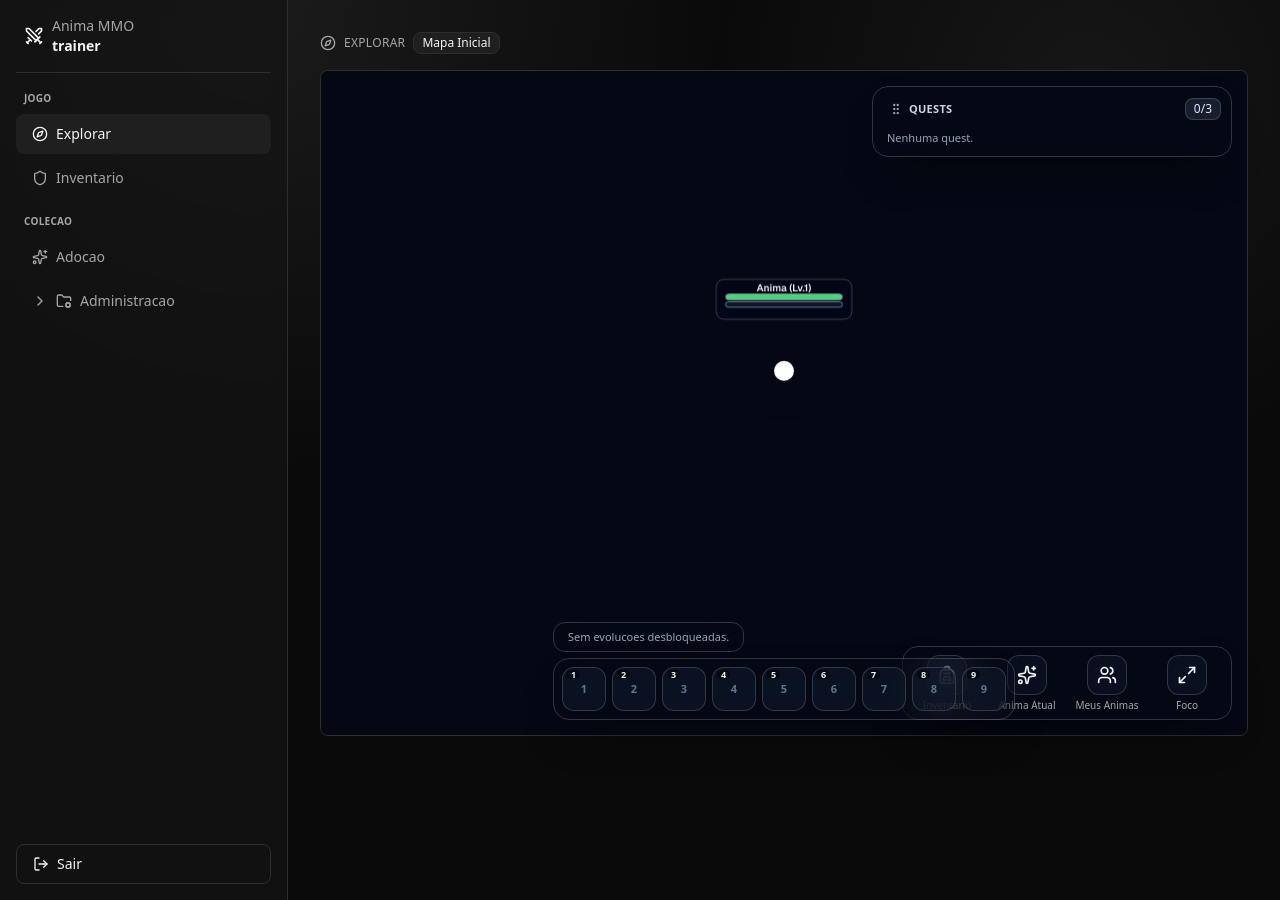
Test case: auth routing › shows sidebar entries for admin
Expected: the link "Explorar" is shown, [16,114,271,154]
Click the button "Administracao": (144, 301) [16,281,271,321]
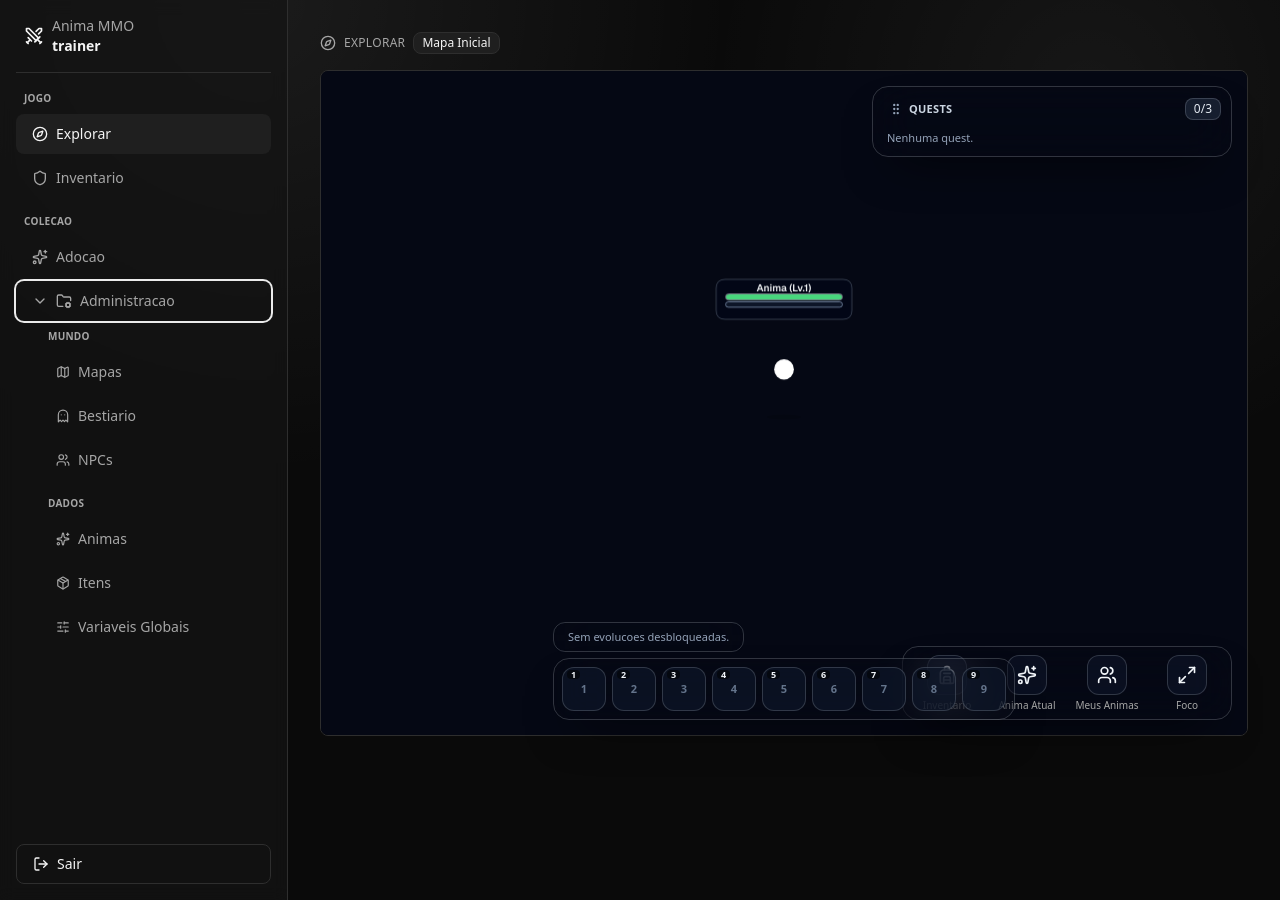
Expected: the link "Mapas" is shown, [56,362,122,381]
